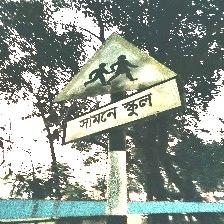School-in-front: (52, 33, 182, 145)
